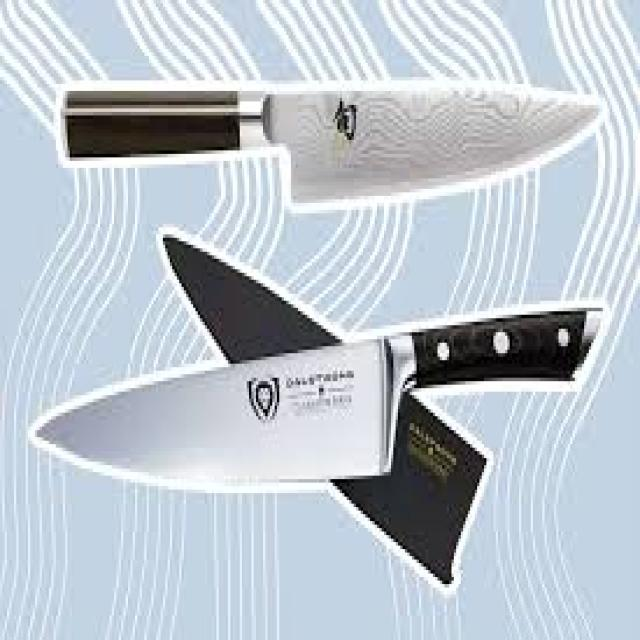Knife: (54, 77, 600, 203)
